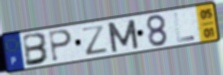8: (144, 13, 169, 48)
B: (22, 31, 51, 68)
L: (172, 12, 197, 44)
M: (105, 18, 141, 54)
P: (48, 28, 74, 63)
Z: (80, 23, 110, 57)
